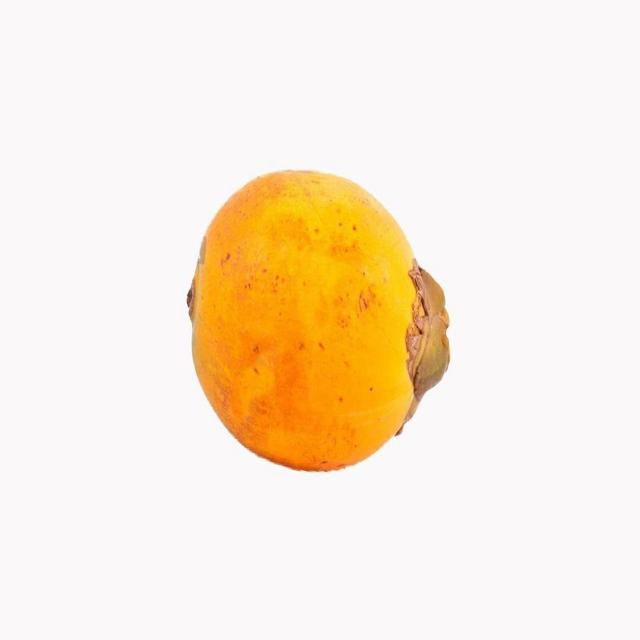good: (186, 170, 451, 475)
